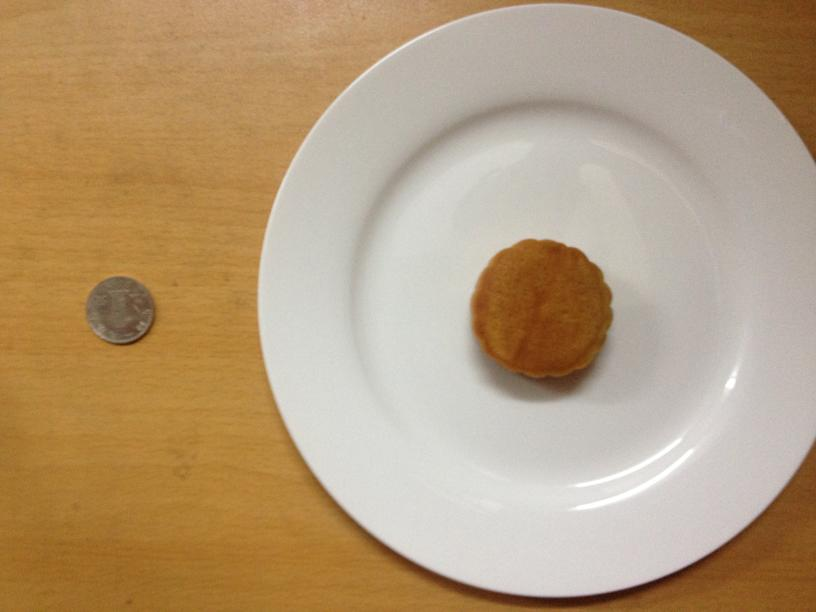coin: (83, 274, 155, 345)
mooncake: (472, 239, 613, 378)
